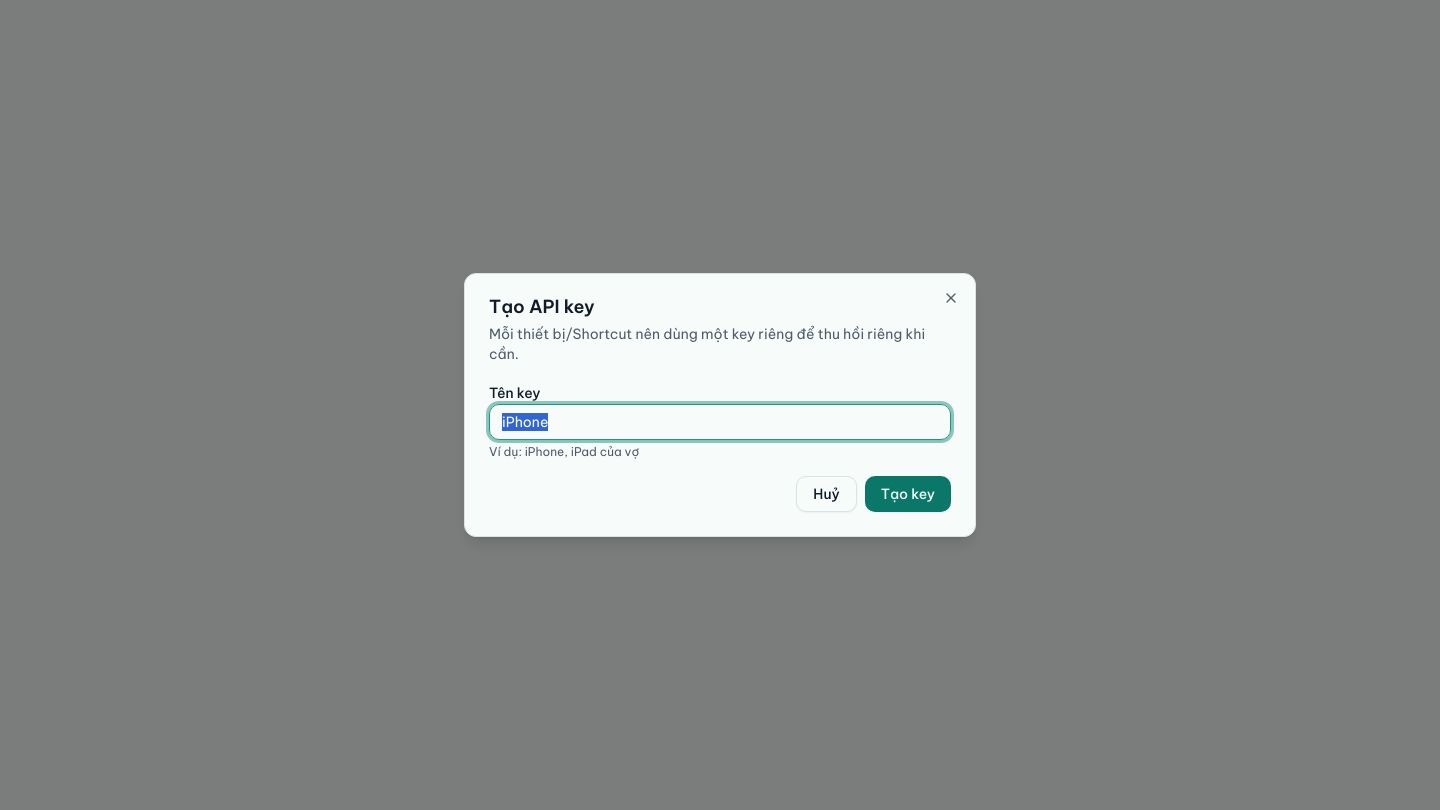
Test case: CreateApiKeyDialog — bước 1: đặt tên › tên chuỗi rỗng -> KHÔNG gọi createApiKey, báo lỗi
The image size is (1440, 810).
Clear the field labelled "Tên key" at (720, 422), box [489, 404, 951, 440]
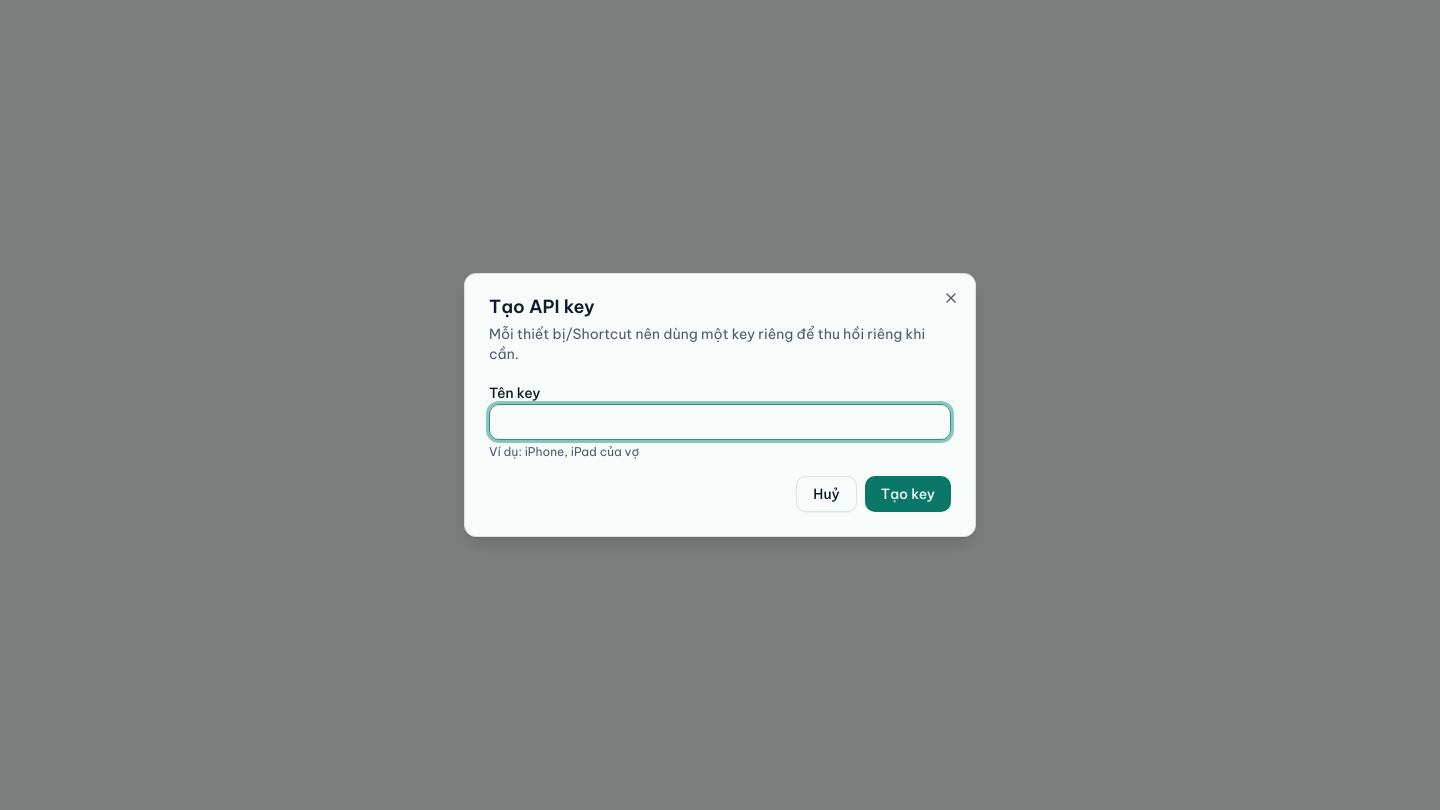
Click the button "Tạo key" at (908, 494), box [865, 476, 951, 512]
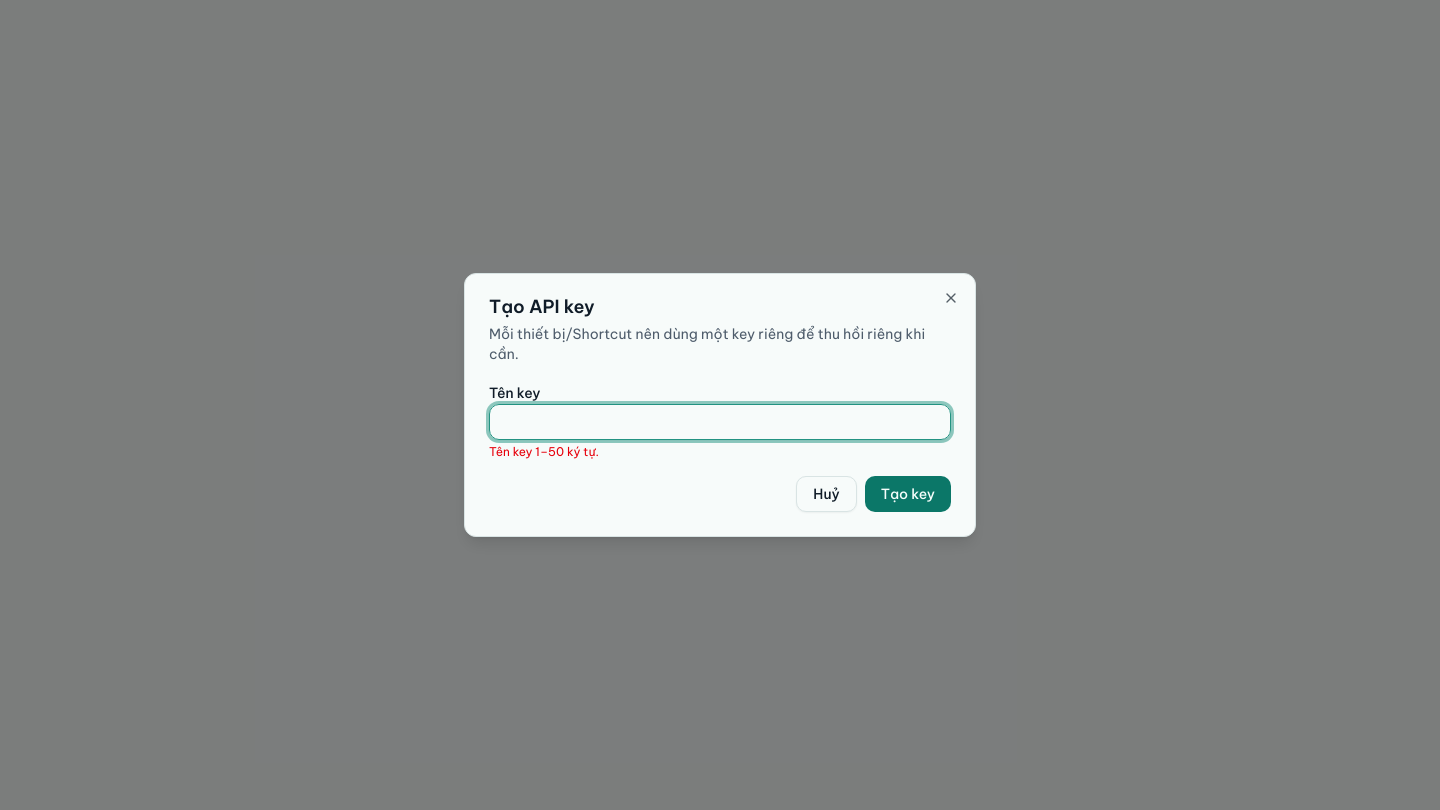
Expected: the message reads "Tên key 1–50 ký tự.", [489, 444, 599, 459]
